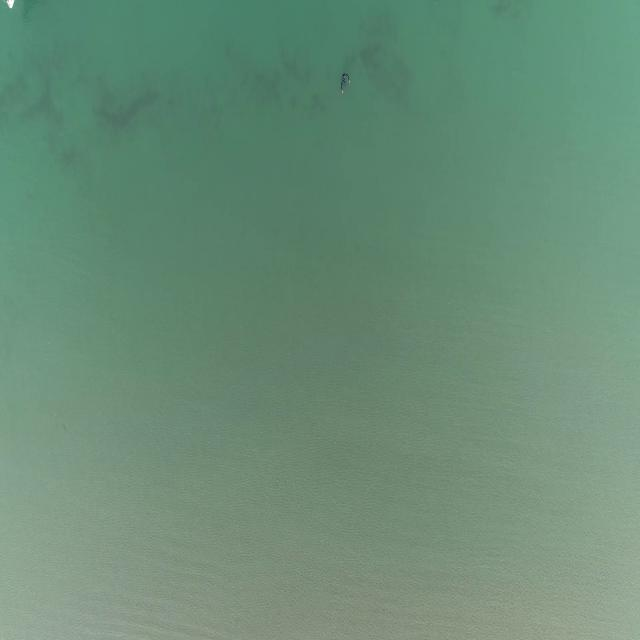person: (339, 72, 353, 93)
